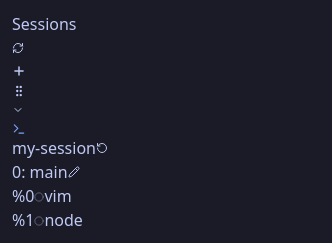
Test: TmuxTree › enters rename mode when rename button is clicked
Click the button titled "Rename window" at (74, 172), box [68,166,80,178]
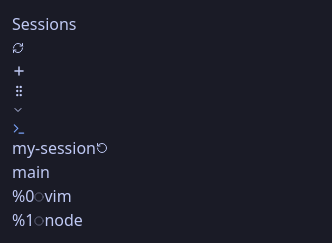
Expected: the field showing "main" is shown, [12,160,243,184]
